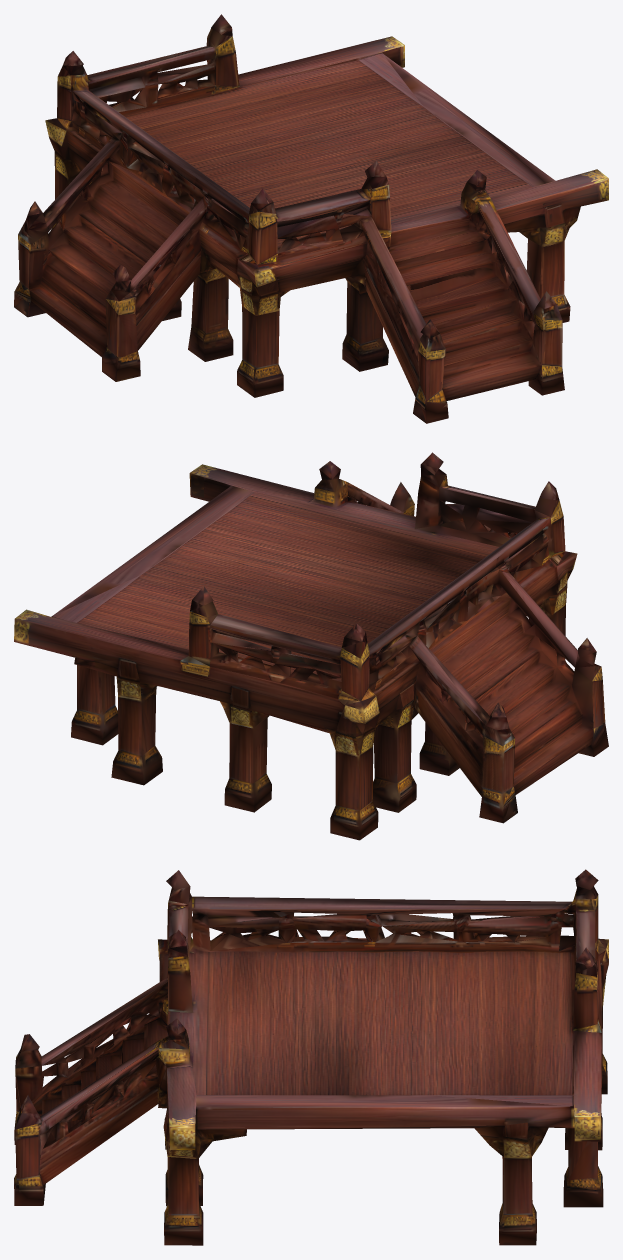
File: SingleStareBase_LOD2.fbx
3 views of the same model, one above another, from view 1: azimuth 30°, elevation 25°; view 2: azimuth 150°, elevation 25°; view 3: azimuth 270°, elevation 25° (orthographic). The views are drawn at different scales.
Parts seen in each view (by area): view 1: SingleStareBase_LOD2; view 2: SingleStareBase_LOD2; view 3: SingleStareBase_LOD2.
Boxes of the visible parts, x1,y1,x2,y2 form: SingleStareBase_LOD2: (14,14,608,423); SingleStareBase_LOD2: (14,452,608,840); SingleStareBase_LOD2: (14,869,608,1245).
Bounding box in the file's own units: 7.72 × 3.34 × 8.28.
Materials: 1 (1 with a texture image).
